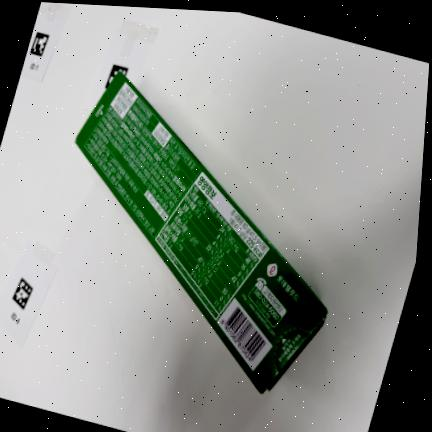cracker_vege: (75, 73, 327, 392)
